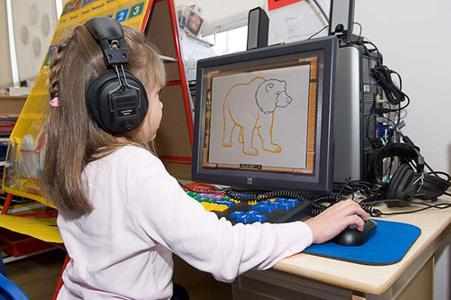person: (42, 17, 370, 300)
